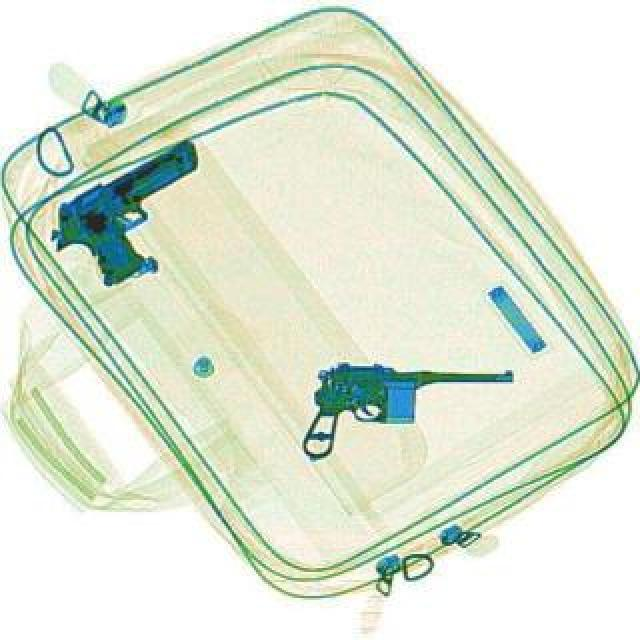gun: (32, 132, 240, 298), (300, 360, 512, 464)
